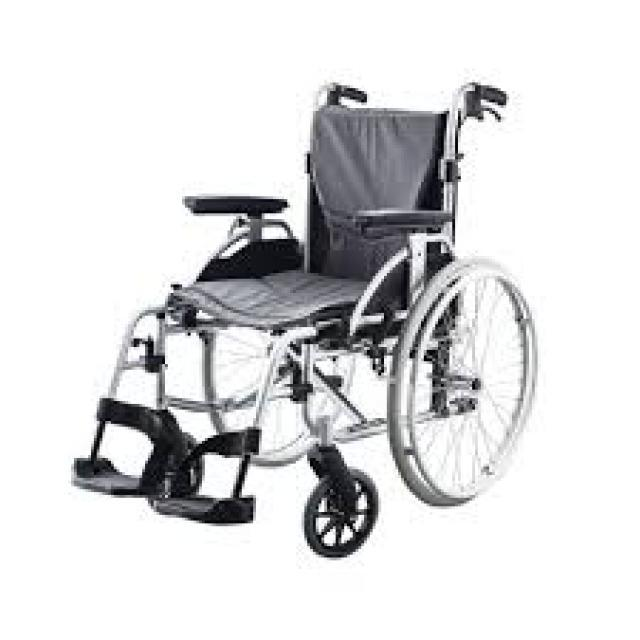wheelchair: (71, 74, 546, 563)
